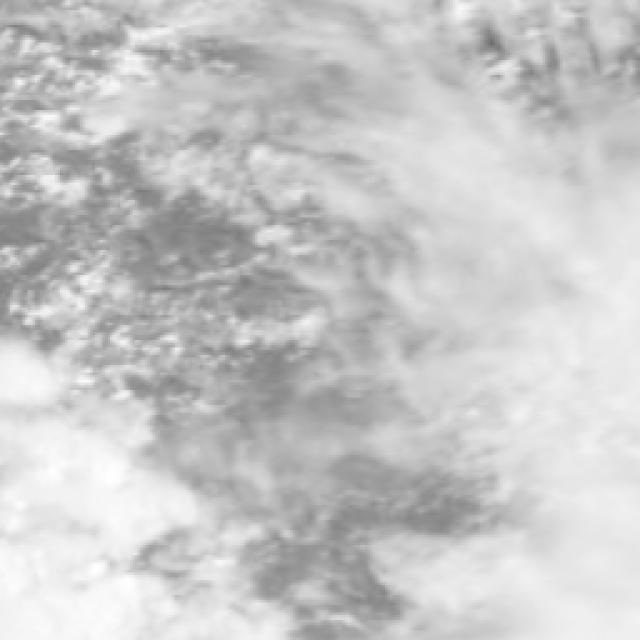CB: (556, 213, 640, 640), (0, 412, 118, 640)
